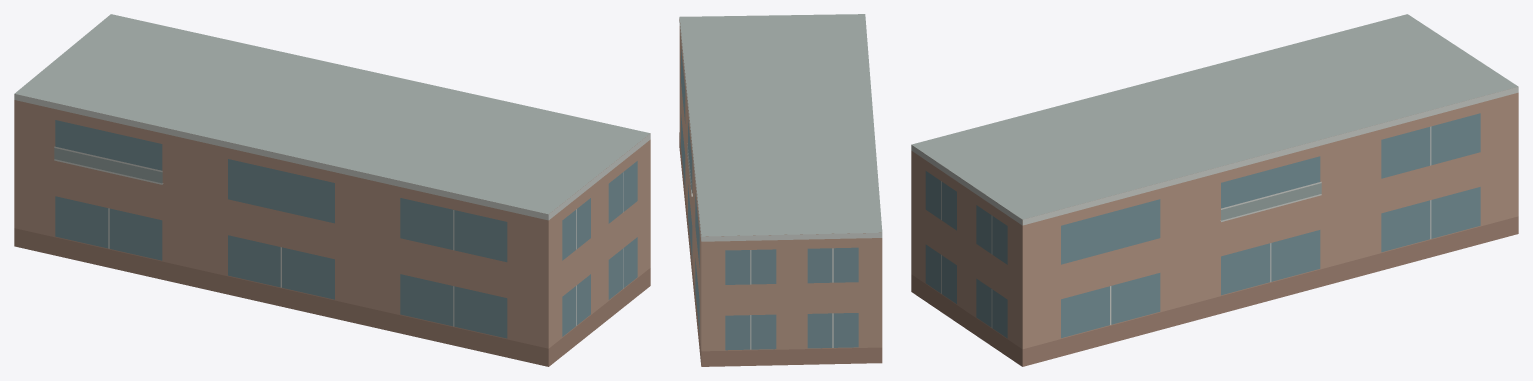
File: survey-upis-32861928.glb
3 renders of one model, left to right at view 1: azimuth 30°, elevation 25°; view 2: azimuth 150°, elevation 25°; view 3: azimuth 270°, elevation 25°, orthographic. The views are drawn at different scales.
Parts seen in each view (by area): view 1: survey-upis-32861928.tmp; view 2: survey-upis-32861928.tmp; view 3: survey-upis-32861928.tmp.
Boxes of the visible parts, bbox=[...] form: survey-upis-32861928.tmp: bbox=[14, 14, 650, 366]; survey-upis-32861928.tmp: bbox=[679, 14, 882, 366]; survey-upis-32861928.tmp: bbox=[911, 14, 1518, 366].
Size of the model in its own units: 18.3 by 6.1 by 22.83.
